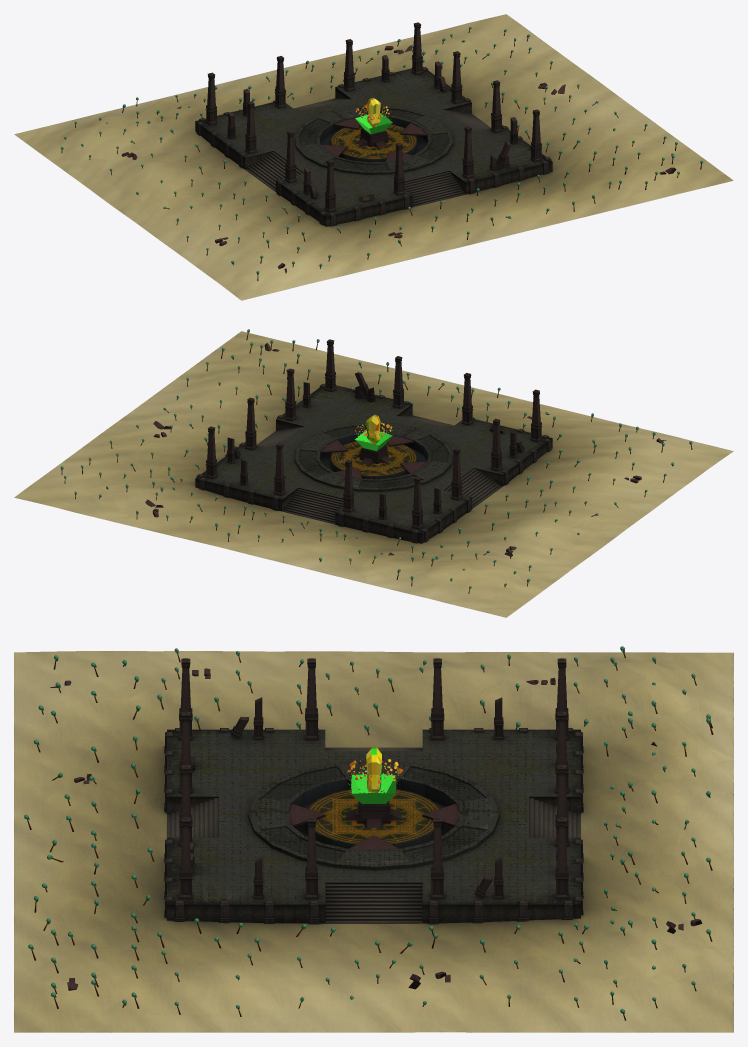
Rendered from old_set.fbx.
3 renders of one model, top to bottom at view 1: azimuth 30°, elevation 25°; view 2: azimuth 150°, elevation 25°; view 3: azimuth 270°, elevation 25°, orthographic. The views are drawn at different scales.
Visible parts, largest first — view 1: polySurface336; view 2: polySurface336; view 3: polySurface336.
Boxes of the visible parts, x1=… form: polySurface336: x1=14, y1=14, x2=733, y2=300; polySurface336: x1=14, y1=329, x2=733, y2=617; polySurface336: x1=14, y1=646, x2=733, y2=1032.
Size of the model in its own units: 6.73 by 0.8986 by 5.39.
3 materials, 3 textured.
